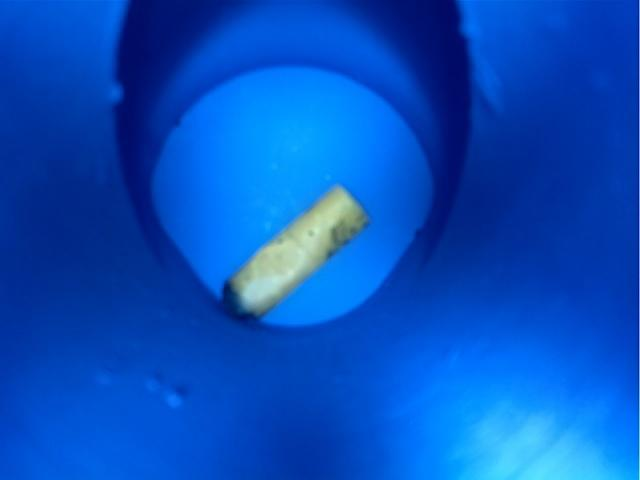megot: (214, 179, 381, 331)
